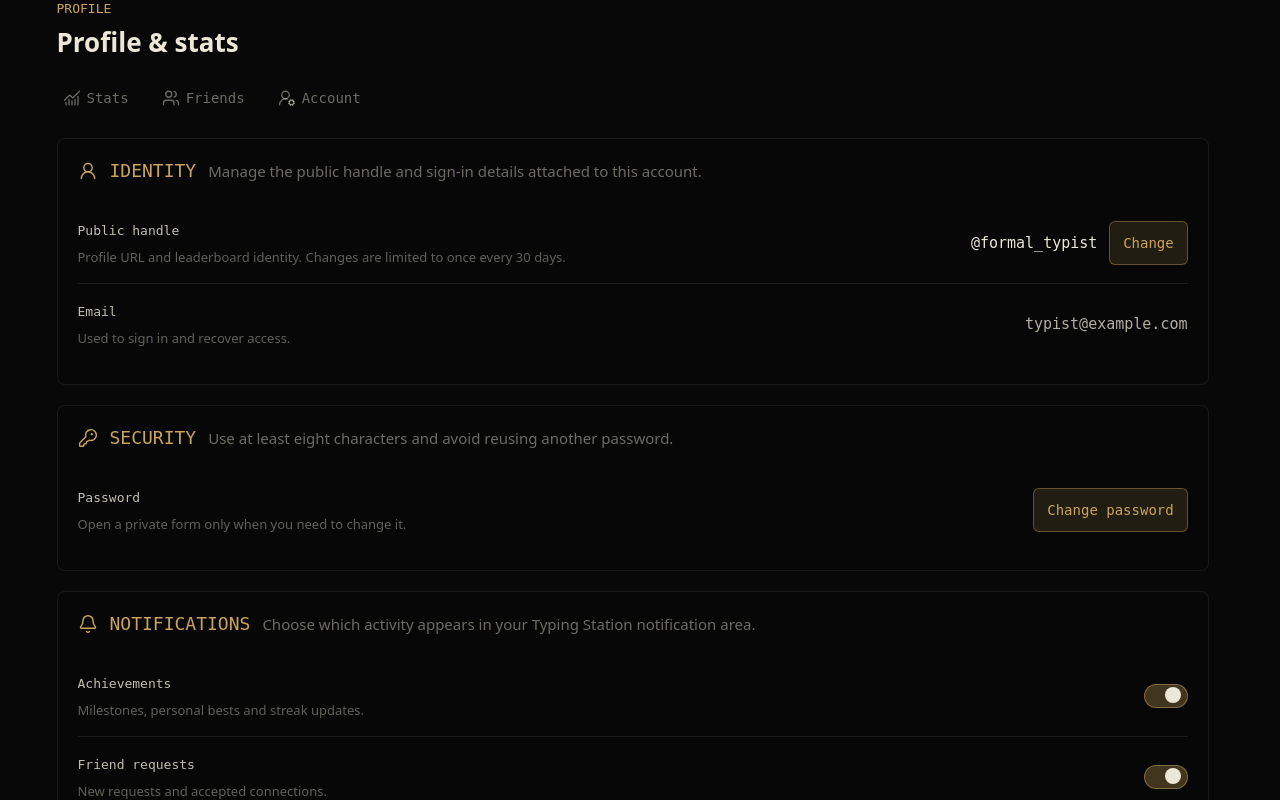
Test: Profile account page › edits the public handle in a dialog and applies the cooldown returned by the server
Expected: the text "@formal_typist" is shown, [971, 231, 1097, 255]
Click the button with aria-label "Change public handle": click(1148, 243) [1109, 221, 1188, 265]
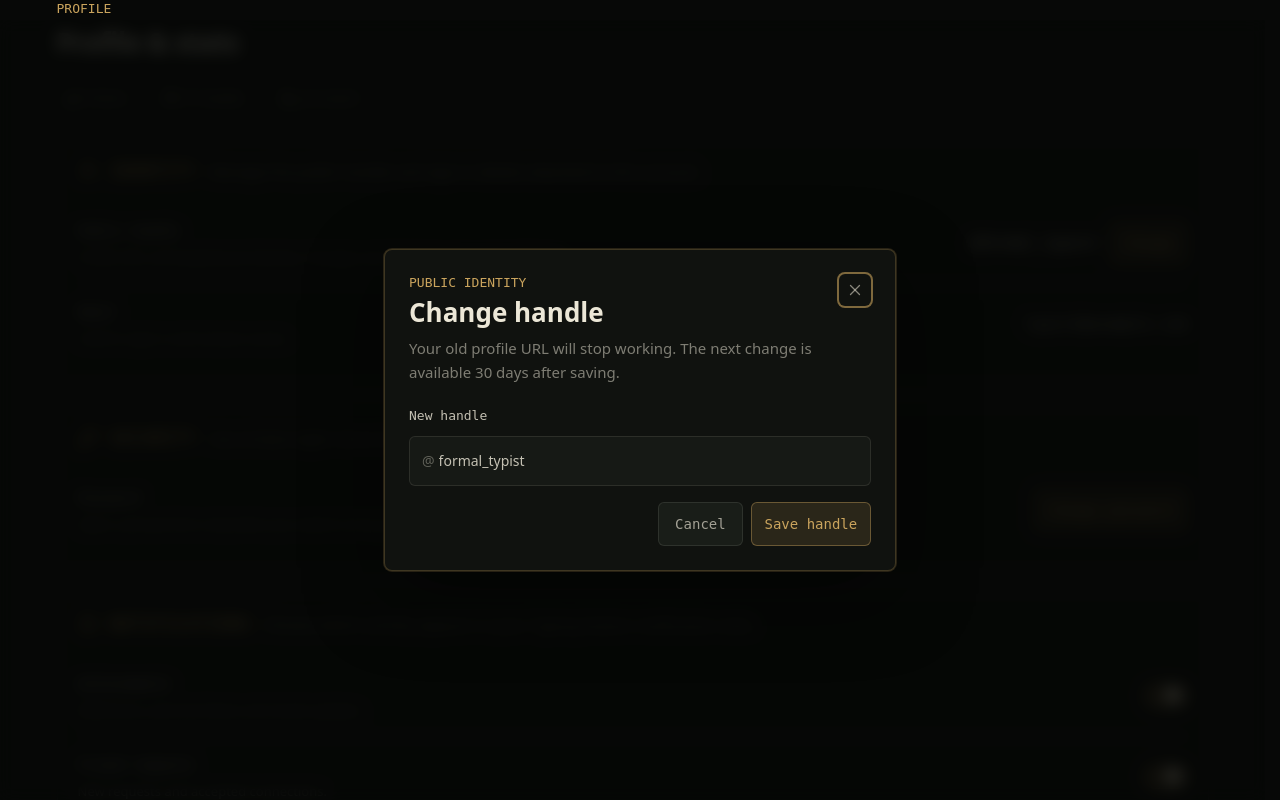
Replace the text in the field labelled "New handle" with "updated_typist": (646, 461) [435, 437, 858, 485]
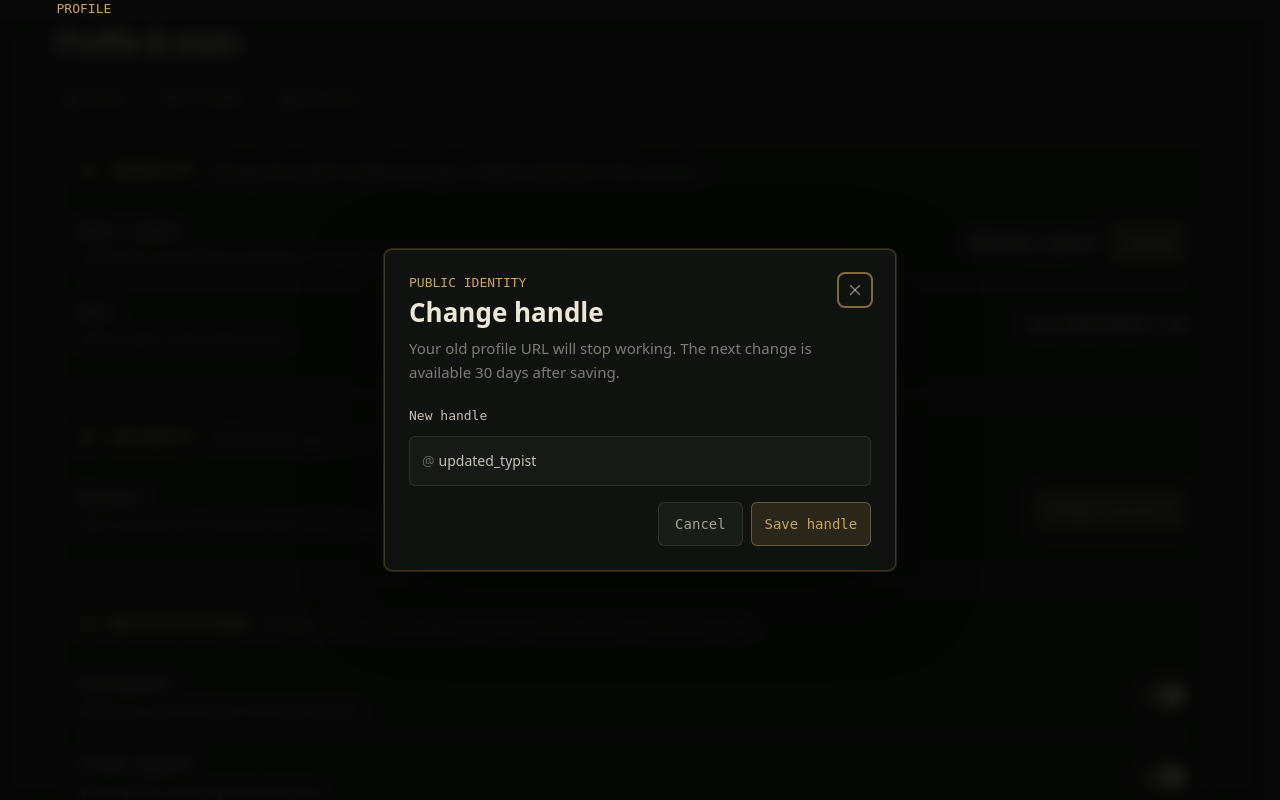
Click the button "Save handle": click(811, 524) [751, 502, 871, 546]
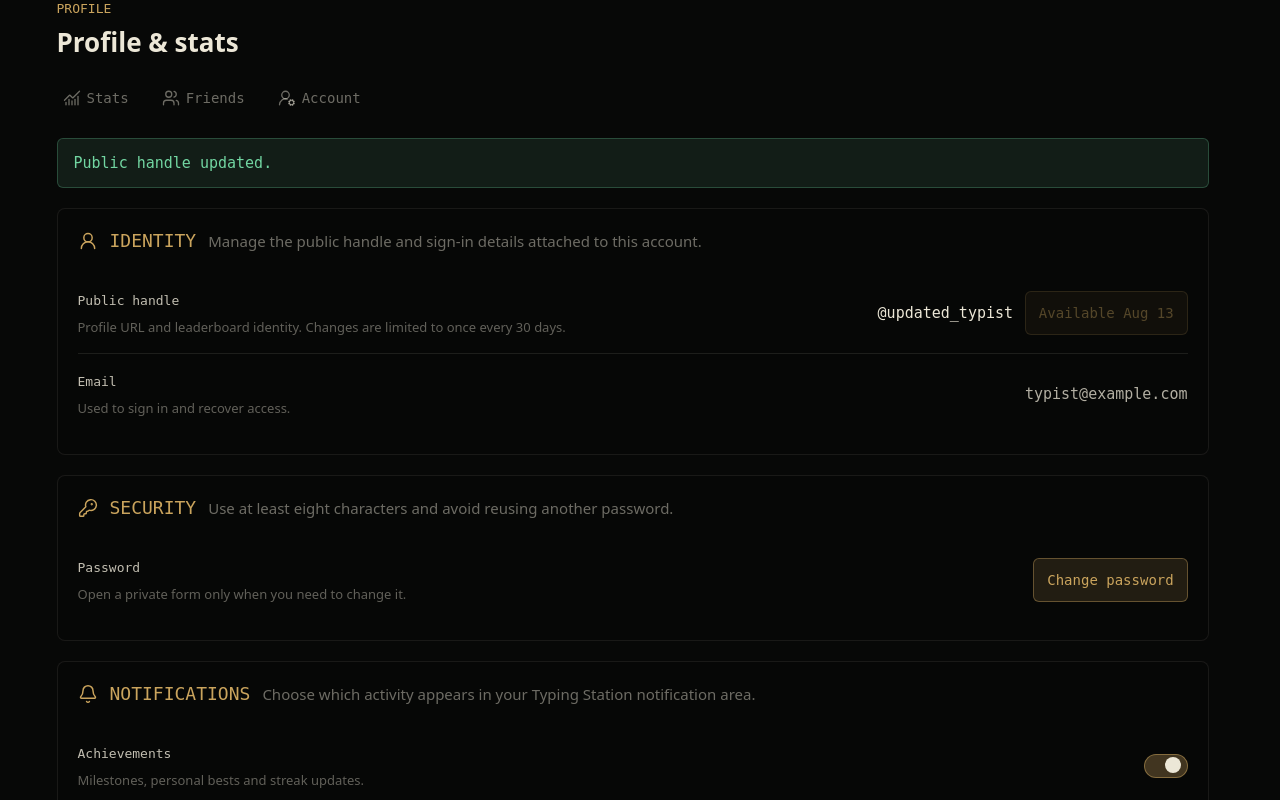
Result: the text "@updated_typist" is shown at [878, 301, 1013, 325]
Result: the button with aria-label "Change public handle" is disabled at [1025, 291, 1188, 335]
